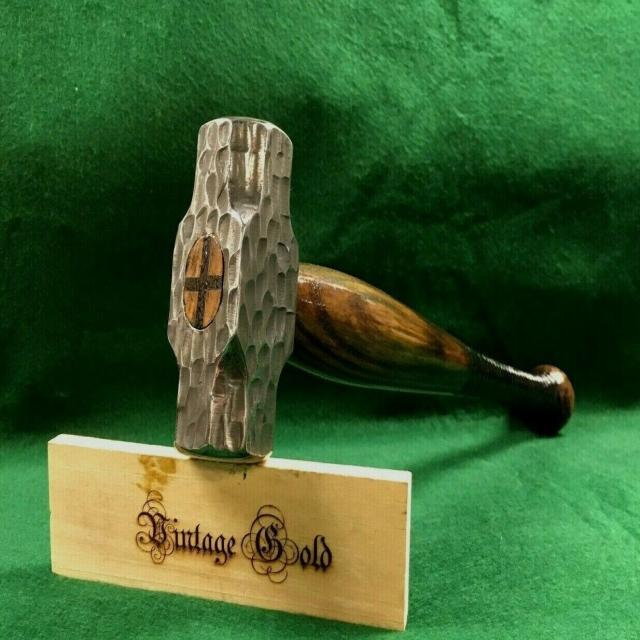hammer: (160, 99, 582, 463)
